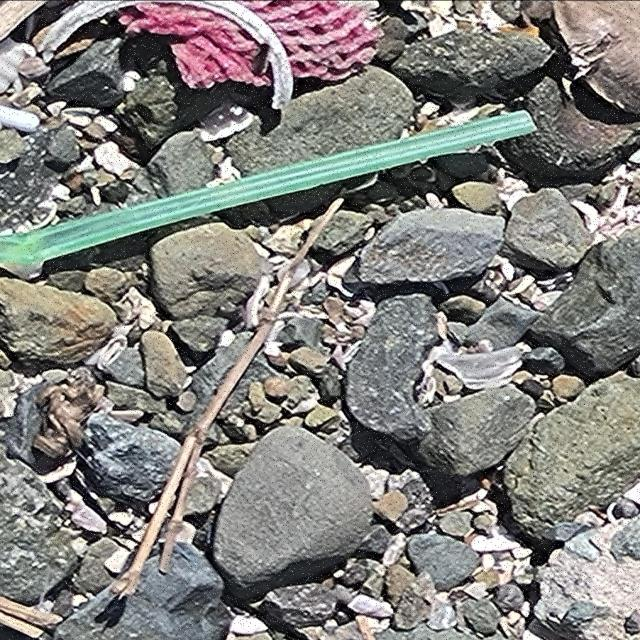plastic_waste: (1, 108, 543, 269)
